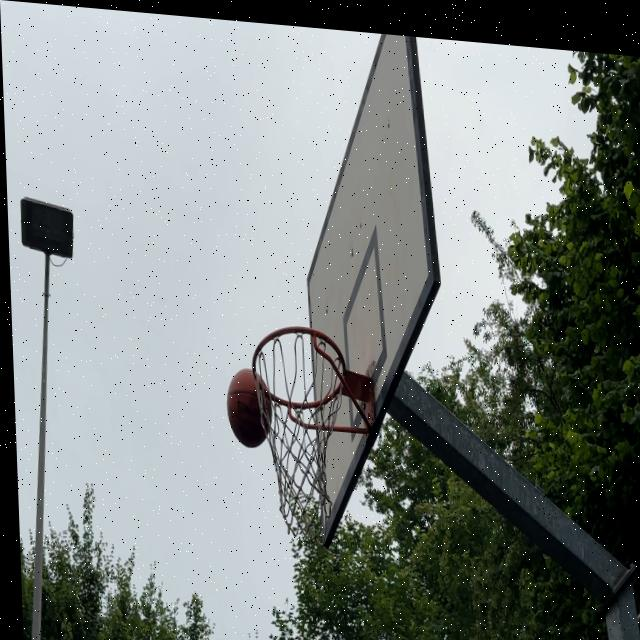rebound_hit: (225, 367, 275, 450)
